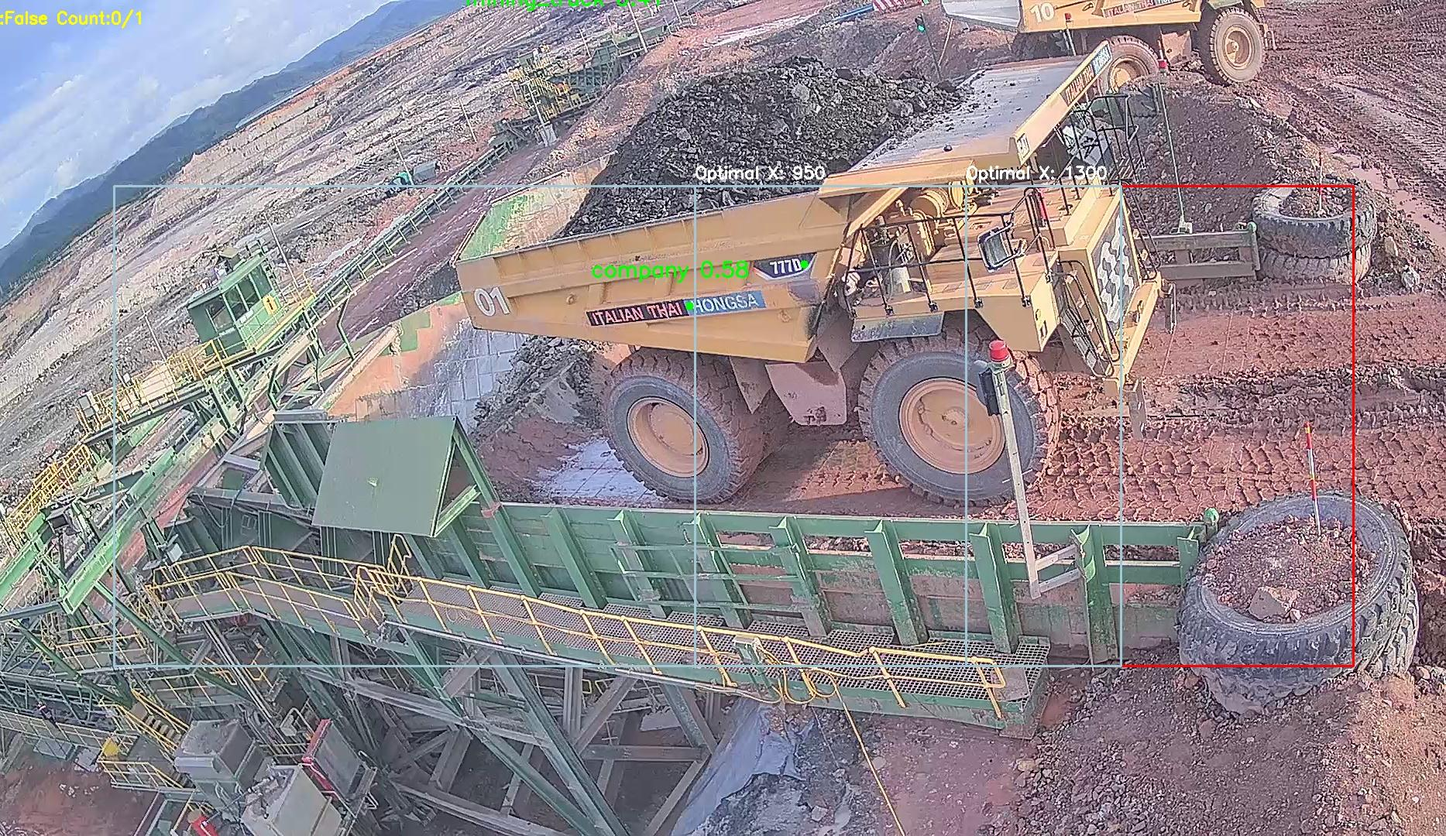company: (572, 288, 783, 334)
full_load: (603, 53, 855, 230)
mining_truck: (446, 35, 1187, 493)
tail_number: (468, 275, 523, 323)
truck_size: (750, 249, 818, 283)
